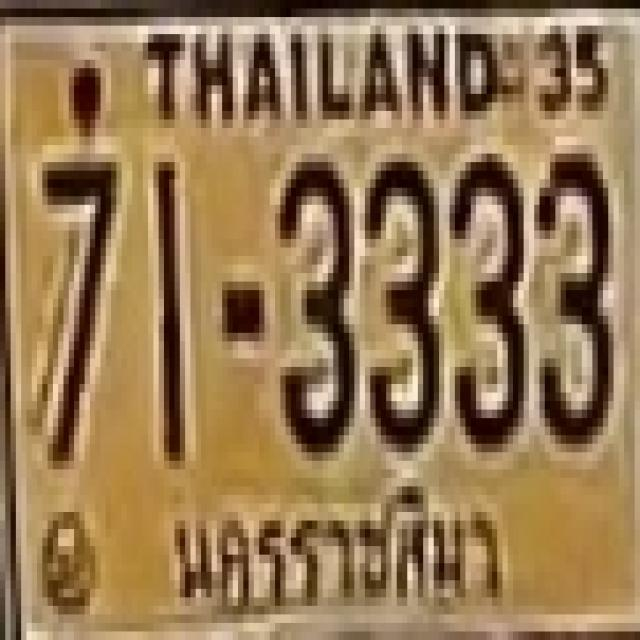1: (153, 150, 180, 456)
3: (447, 145, 521, 444), (359, 154, 434, 444), (275, 154, 349, 444), (534, 145, 608, 435)
7: (37, 154, 116, 460)
NMA: (160, 479, 510, 612)
